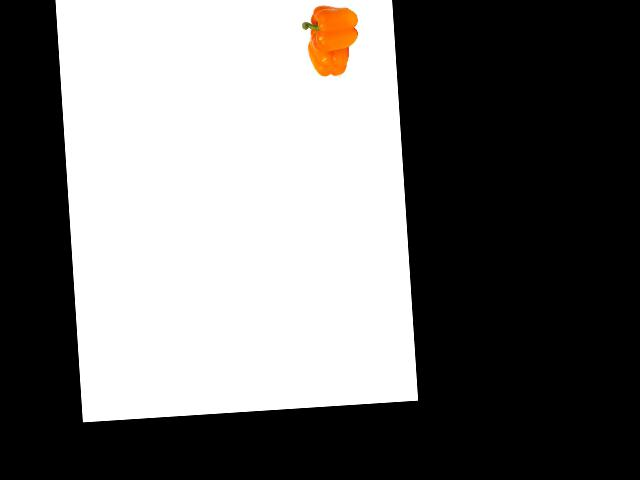bell_pepper: (305, 33, 356, 80)
